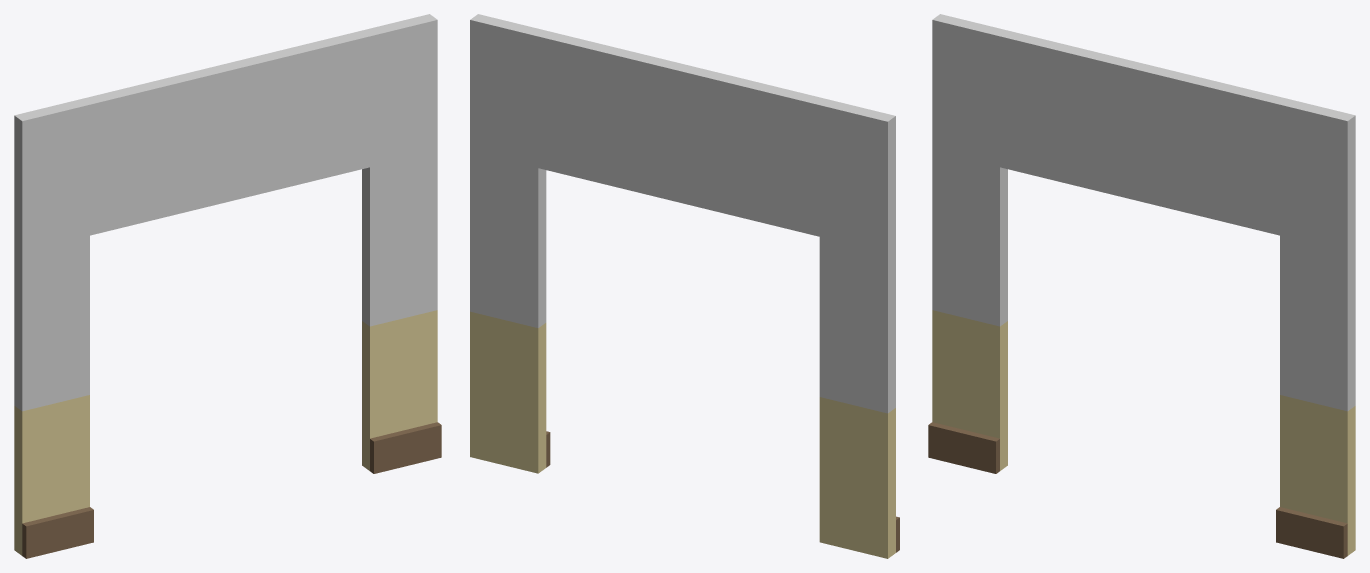
File: Mesh_WallBaseboard2Colors_G4.fbx
3 views of the same model, side by side, from view 1: azimuth 30°, elevation 25°; view 2: azimuth 150°, elevation 25°; view 3: azimuth 330°, elevation 25° (orthographic).
Parts seen in each view (by area): view 1: Mesh_WallBaseboard2Colors_G4; view 2: Mesh_WallBaseboard2Colors_G4; view 3: Mesh_WallBaseboard2Colors_G4.
Part boxes in pixels (x1,y1,x2,y2): Mesh_WallBaseboard2Colors_G4: (14,14,441,558); Mesh_WallBaseboard2Colors_G4: (470,14,899,558); Mesh_WallBaseboard2Colors_G4: (928,14,1355,558).
Size of the model in its own units: 3 by 3 by 0.15.
